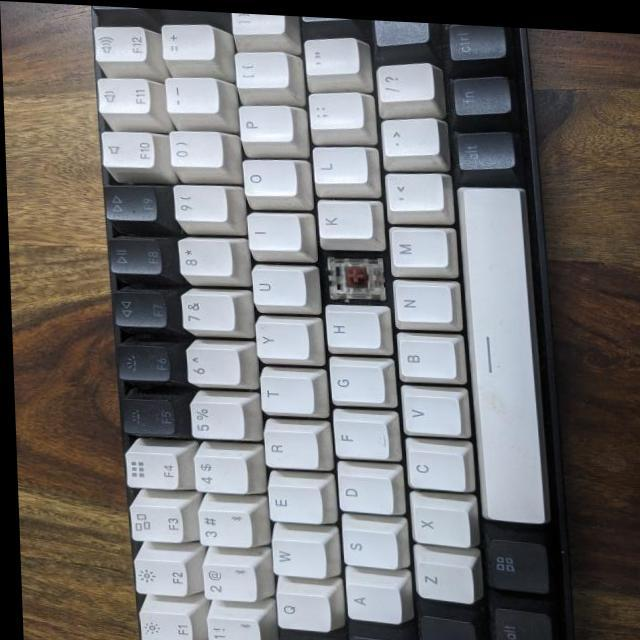key-switch: (325, 251, 382, 297)
